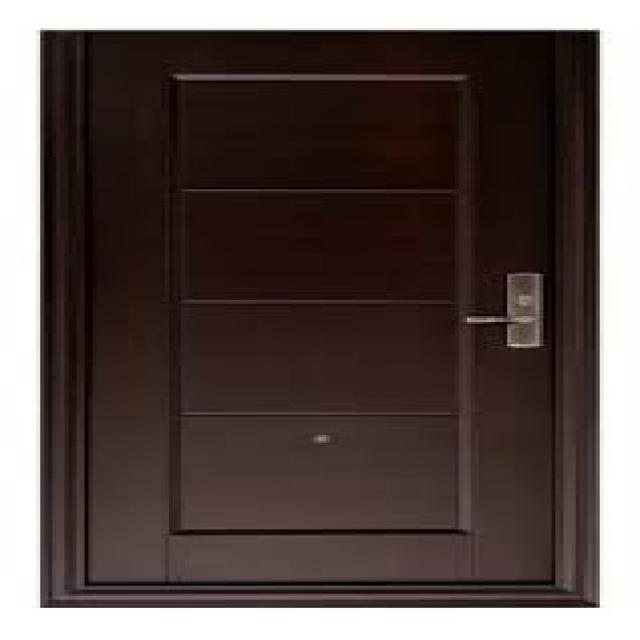door: (42, 30, 598, 608)
